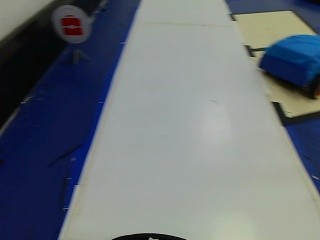company: (53, 7, 89, 44)
